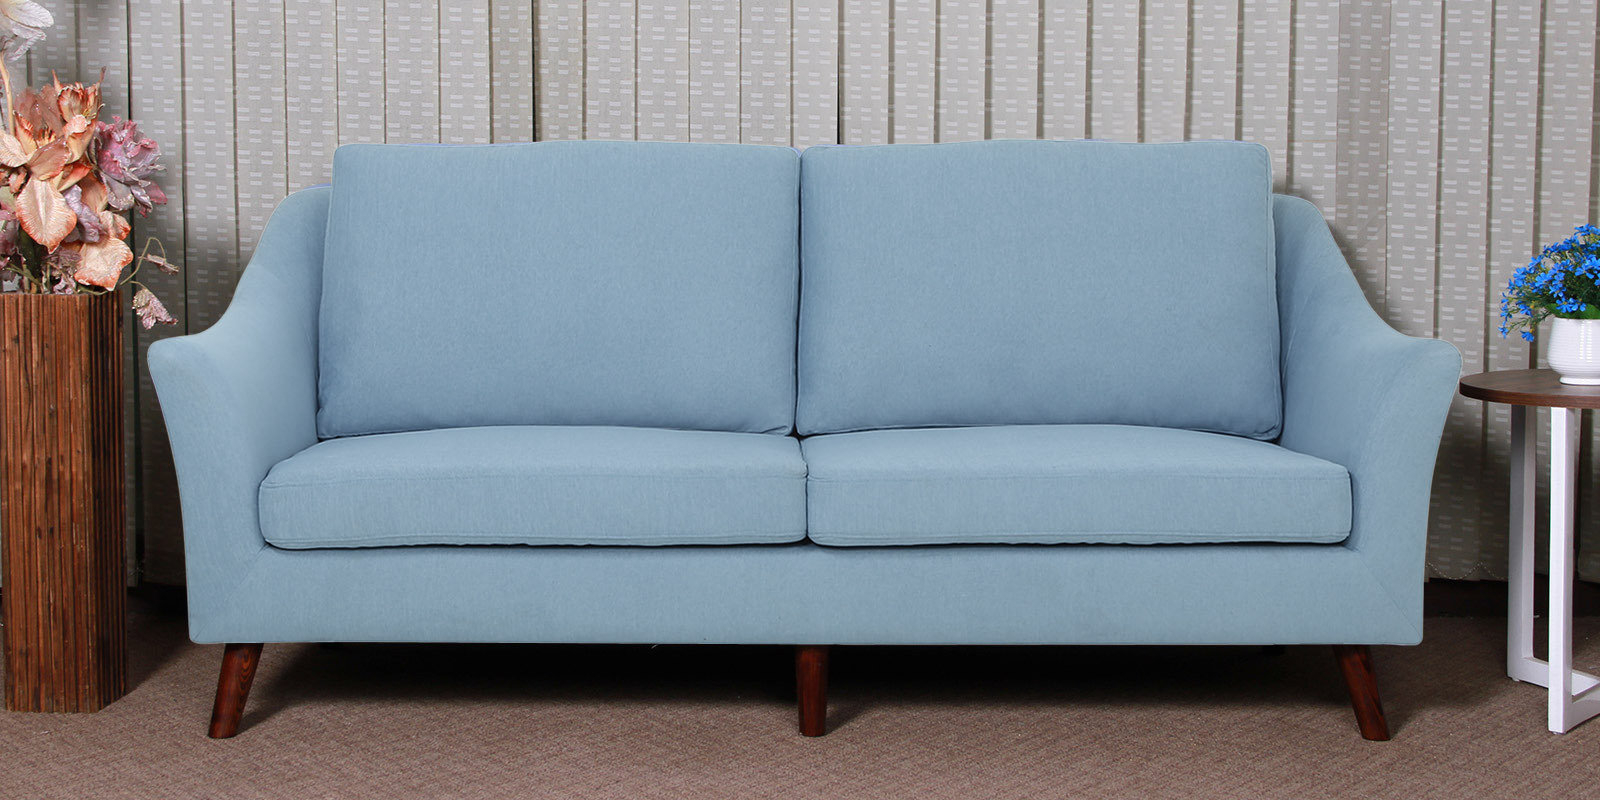Juan Three Seater Sofs in Ice Blue Colour by CasaCraft: (143, 139, 1462, 745)
